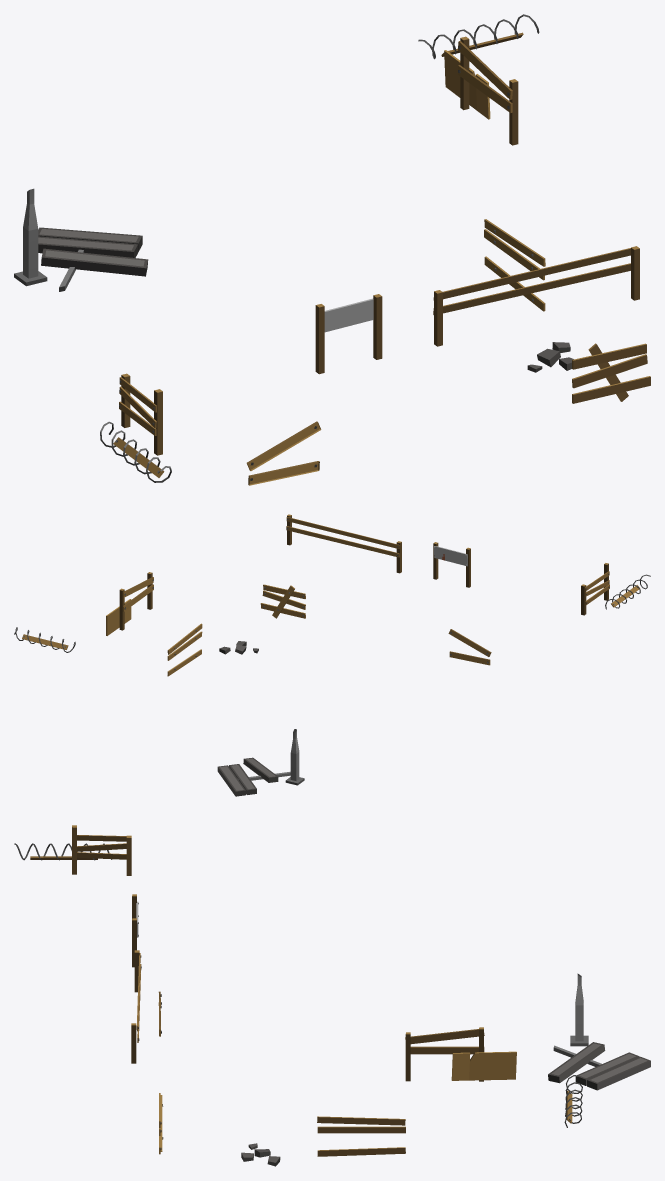
Rendered from SA_Bld_Mall_Extras_01.gltf.
3 renders of one model, top to bottom at view 1: azimuth 30°, elevation 25°; view 2: azimuth 150°, elevation 25°; view 3: azimuth 270°, elevation 25°, orthographic. The views are drawn at different scales.
Visible parts, largest first — view 1: SA_Bld_Mall_Extras_01; view 2: SA_Bld_Mall_Extras_01; view 3: SA_Bld_Mall_Extras_01.
Part boxes in pixels (box(x1,y1,x2,y2)): SA_Bld_Mall_Extras_01: box(14, 14, 650, 485); SA_Bld_Mall_Extras_01: box(14, 514, 650, 796); SA_Bld_Mall_Extras_01: box(14, 825, 650, 1166).
Size of the model in its own units: 38.67 by 10.04 by 37.85.
Materials: 1 (1 with a texture image).
